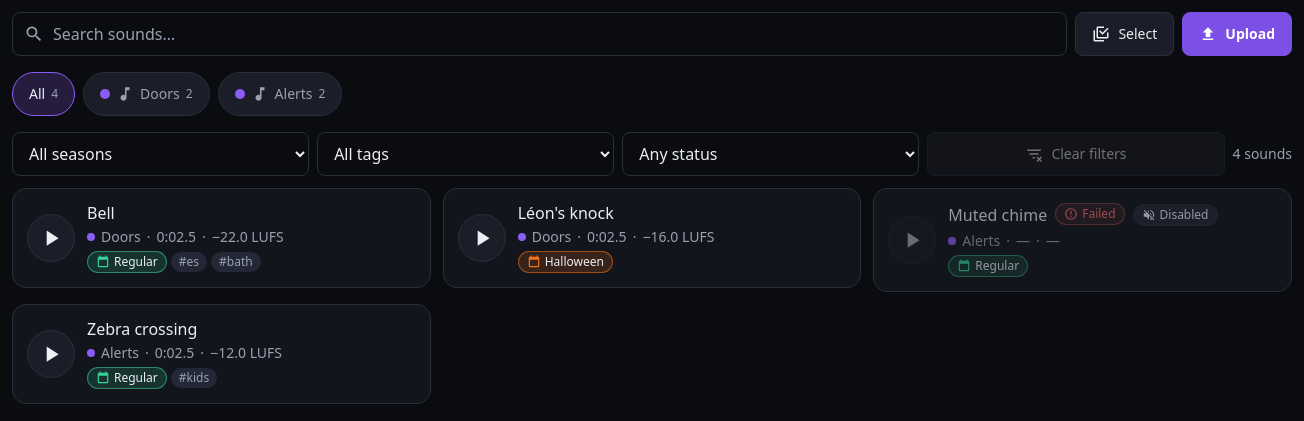
filters in the route query › applies a category chip and writes ?c=
This screenshot has width=1304, height=421.
Click the button "Doors 2". click: (146, 94)
box: [83,72,210,116]
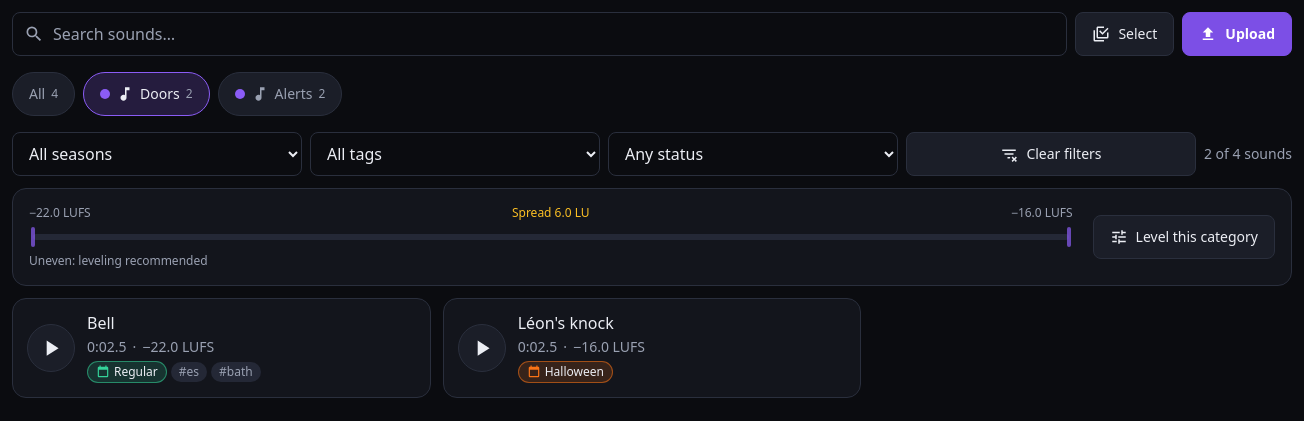
Now the element with test id "meta" no longer shows "Doors"
